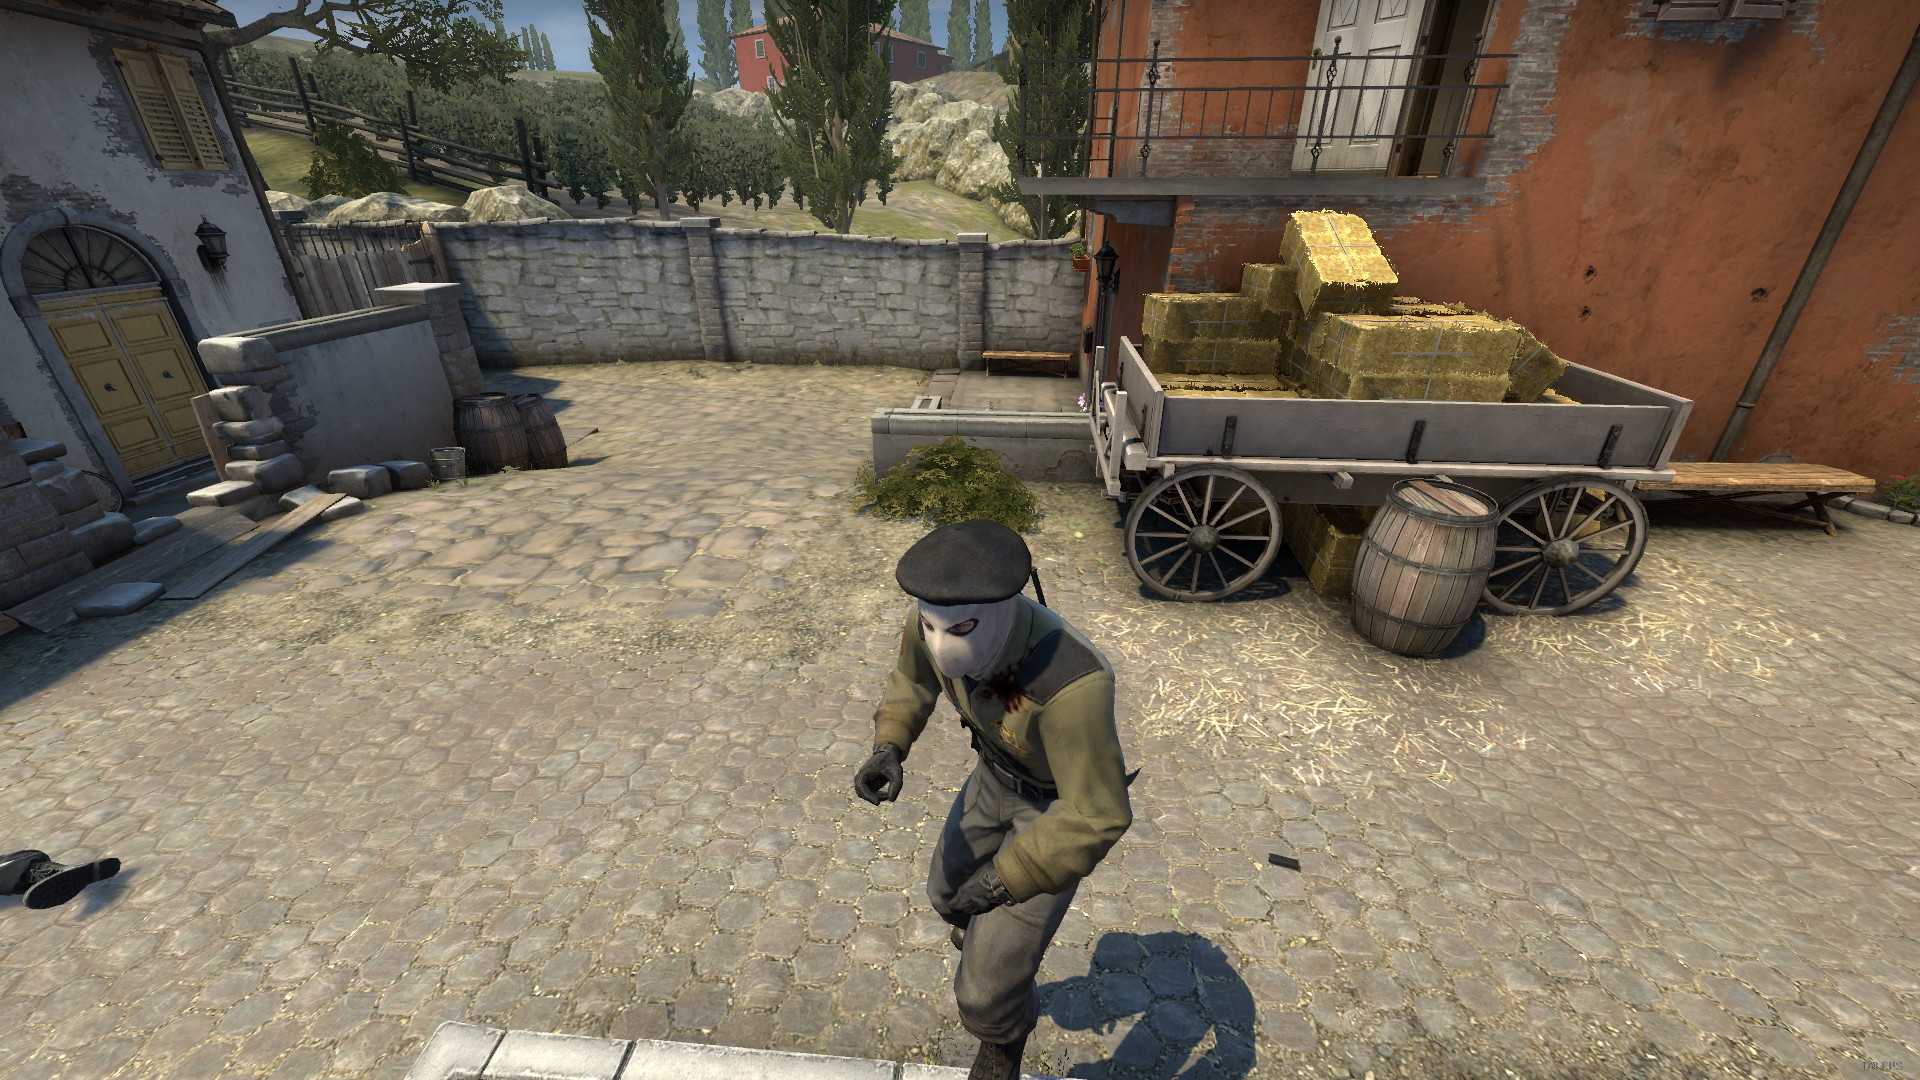t: (855, 520, 1133, 1080)
